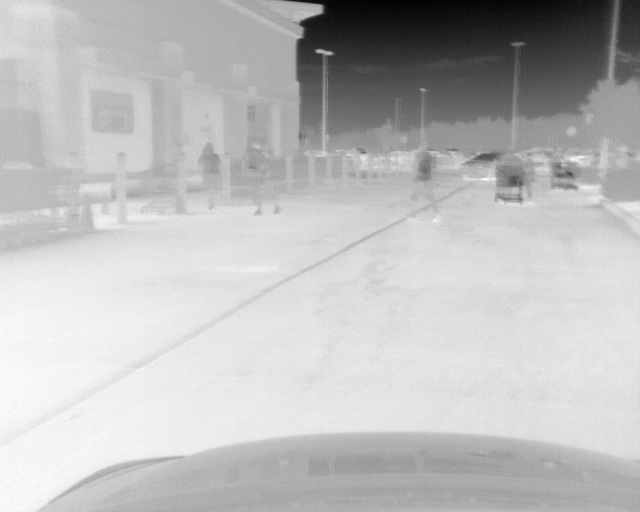car: (461, 151, 521, 180), (520, 153, 534, 200), (551, 146, 564, 188)
people: (245, 138, 281, 216), (408, 140, 441, 222), (200, 142, 220, 209), (246, 140, 267, 169)
